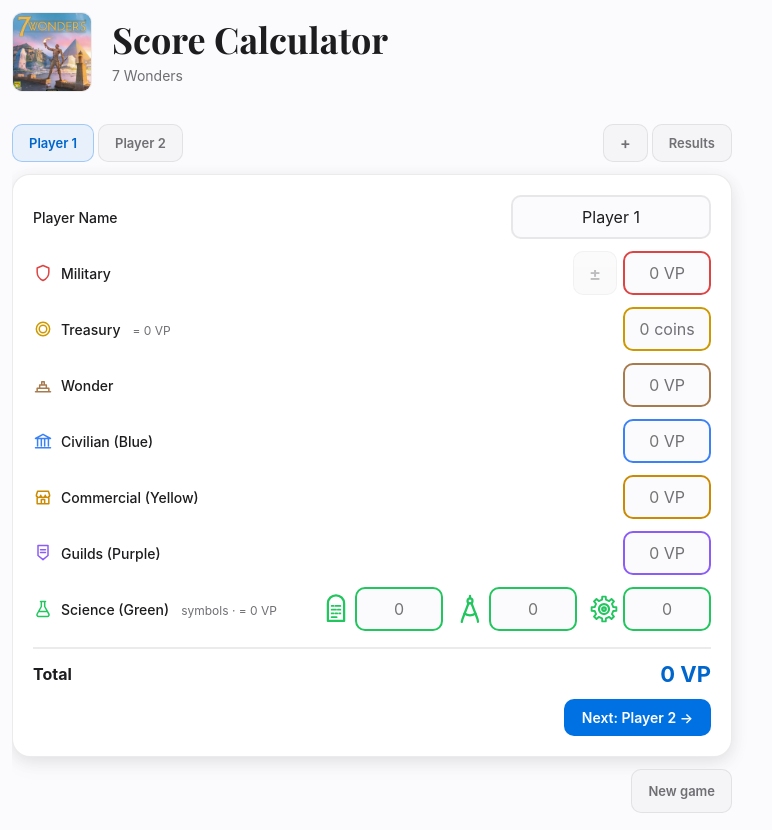
Test case: ScoreCalculatorPage › shows the results as a score sheet, a row per category and a column per player
Type "10" into the number field labelled "Civilian (Blue)" at (654, 441), box [553, 421, 755, 461]
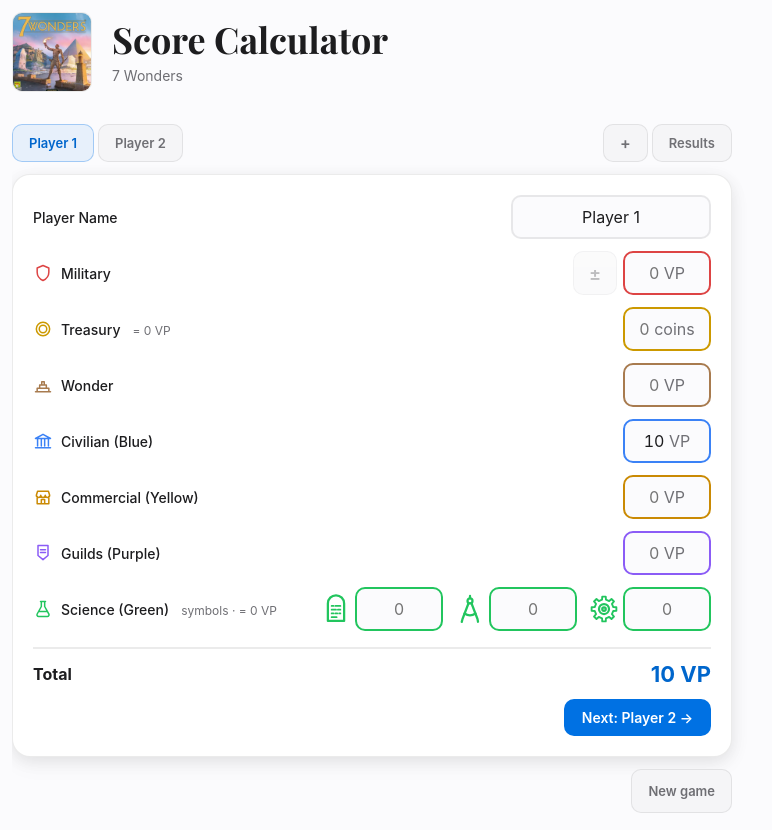
Type "7" into the number field labelled "Treasury = 0 VP" at (644, 329), box [543, 309, 746, 349]
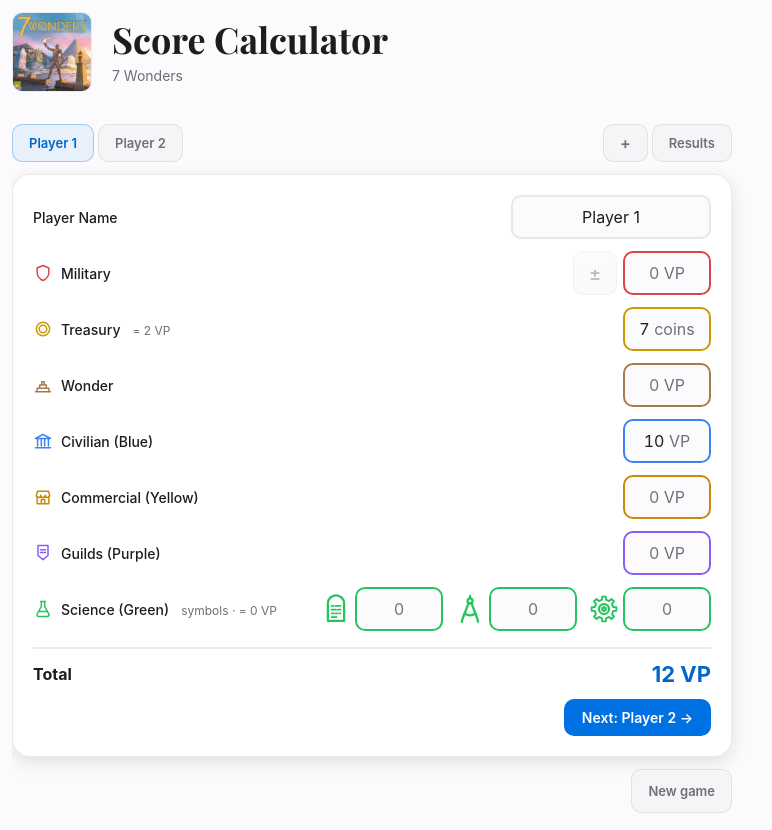
Click the button "Player 2" at (140, 143), box [99, 125, 182, 161]
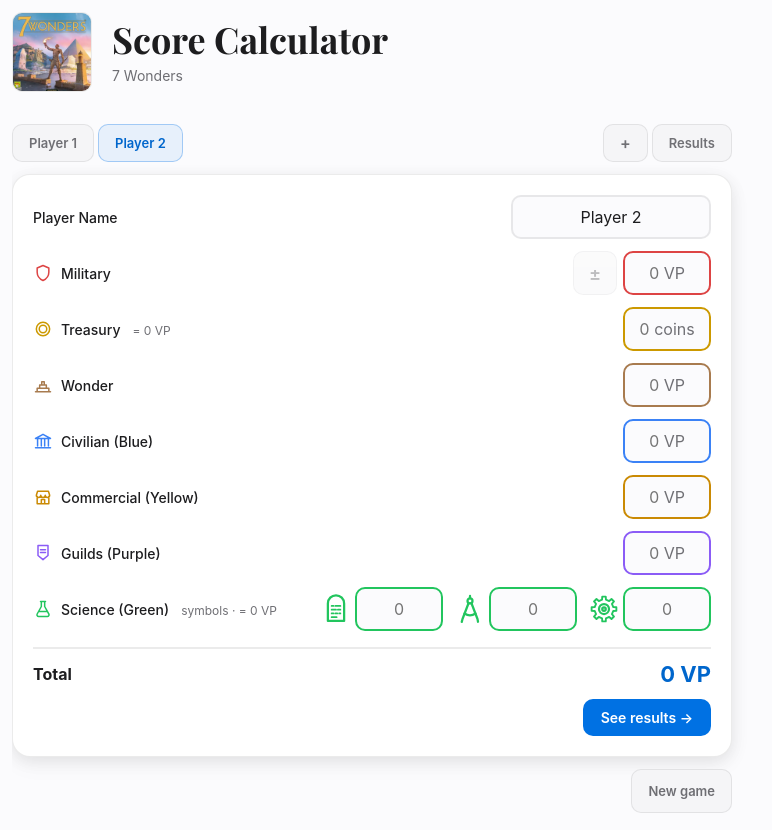
Type "25" into the number field labelled "Civilian (Blue)" at (654, 441), box [553, 421, 755, 461]
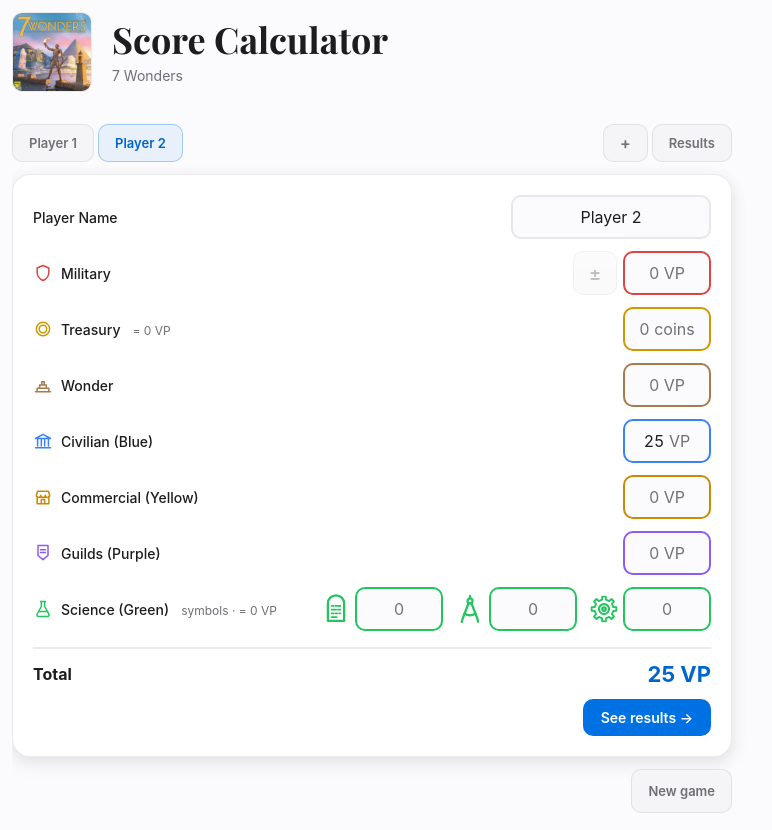
Type "2" into the number field named "tablets" at (399, 609), box [355, 587, 443, 631]
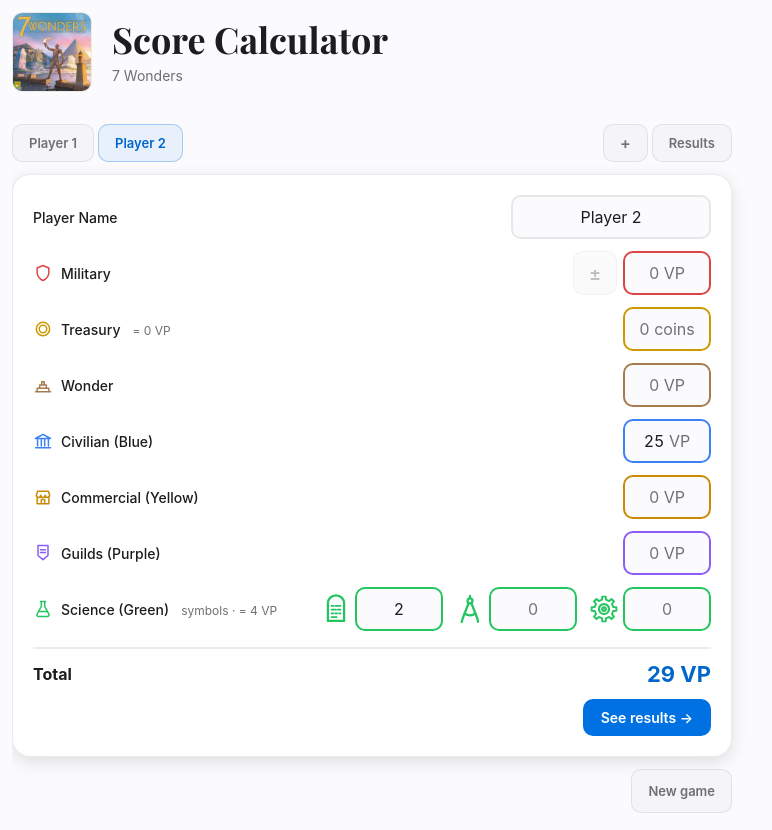
Click the button "Results" at (692, 143), box [652, 124, 732, 162]
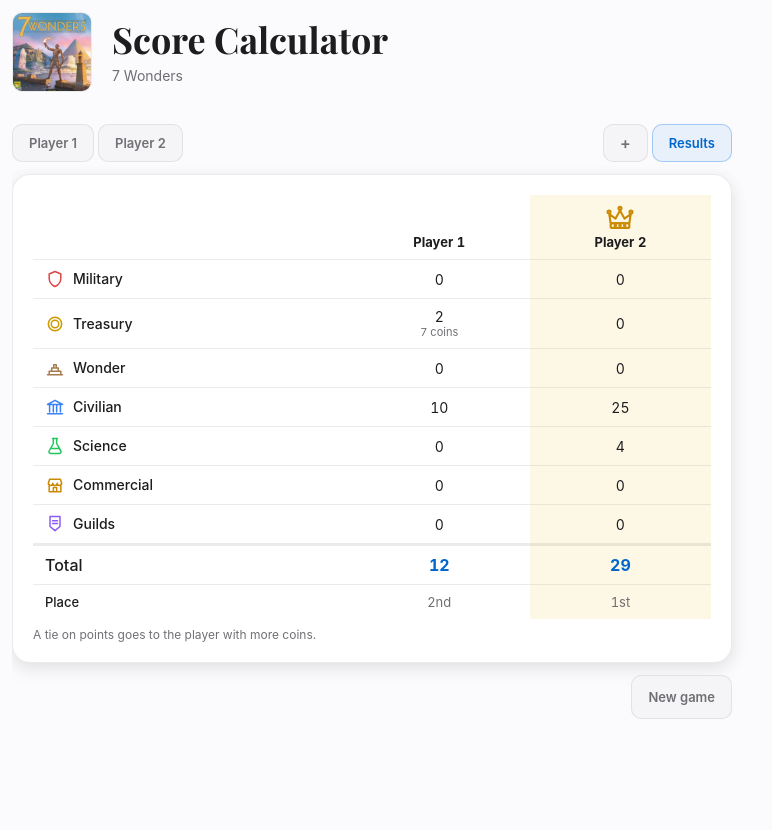
Expected: the 1st icon is shown, [606, 204, 634, 232]
Expected: the text "A tie on points goes to the player with more coins." is shown, [33, 627, 316, 642]
